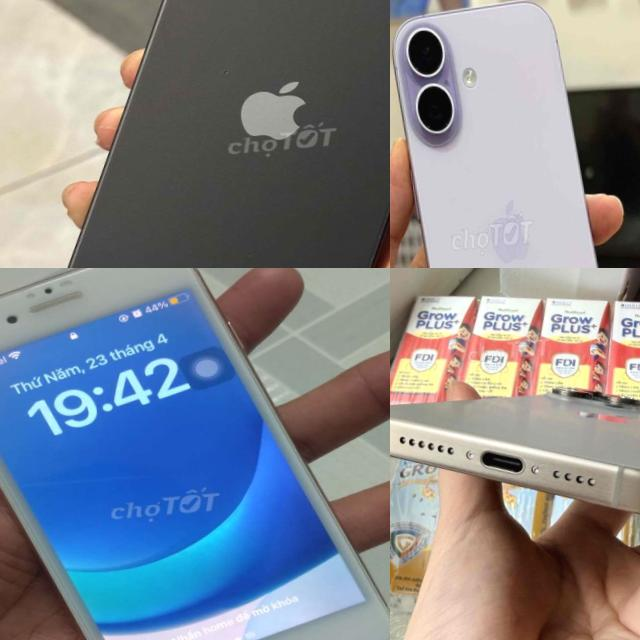gen_12_13: (15, 0, 390, 268)
gen_15: (390, 358, 640, 561)
gen_17: (390, 0, 640, 268)
gen_7_8: (0, 268, 390, 640)
